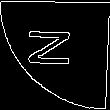N_E: (29, 34, 81, 76)
